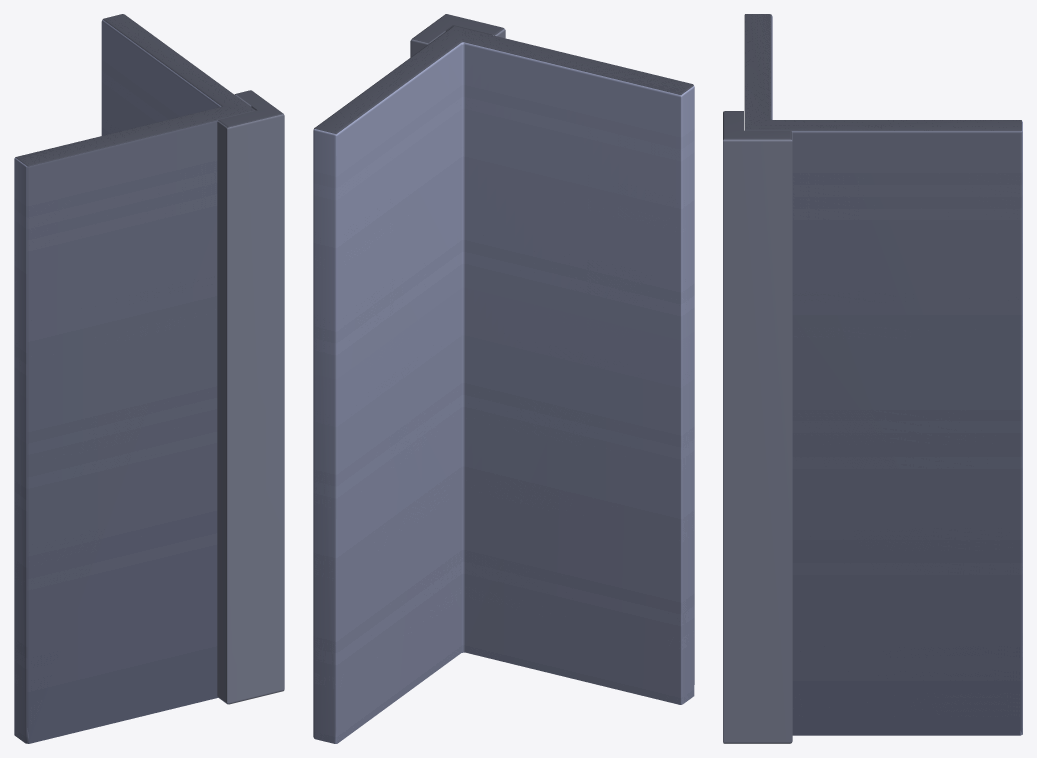
File: wall-corner-column-small.glb
3 renders of one model, left to right at view 1: azimuth 30°, elevation 25°; view 2: azimuth 150°, elevation 25°; view 3: azimuth 270°, elevation 25°, orthographic. The views are drawn at different scales.
Visible parts, largest first — view 1: wall-corner-column-small; view 2: wall-corner-column-small; view 3: wall-corner-column-small.
Boxes of the visible parts, box(x1,y1,x2,y2) form: wall-corner-column-small: box(14, 14, 284, 743); wall-corner-column-small: box(313, 14, 694, 743); wall-corner-column-small: box(723, 14, 1022, 743).
Bounding box in the file's own units: 1.07 × 2.4 × 1.08.
1 material, 1 textured.
